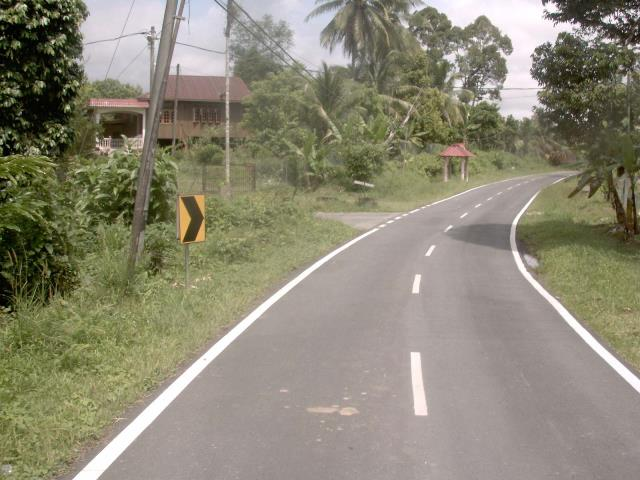traffic_sign: (169, 187, 215, 252)
